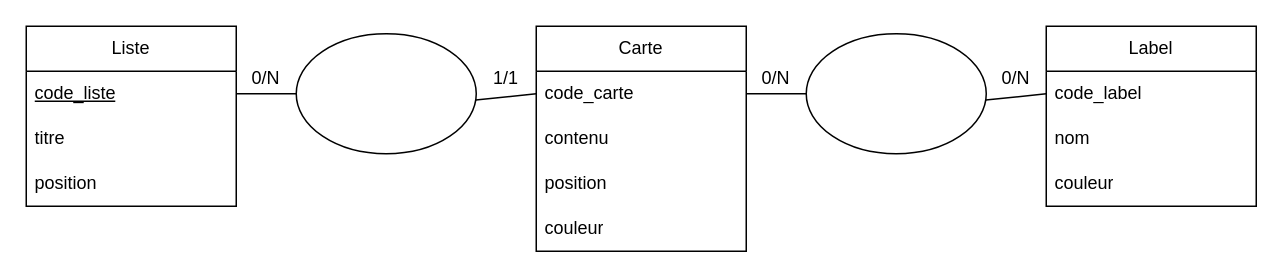
Image size: 1283x278. Some labels were removed from this diagram. The box of each missing label's shape, as (x1, y1, x2, y2) in pixels:
CONTIENT: (295, 32, 476, 154)
POSSEDE: (805, 32, 986, 154)
